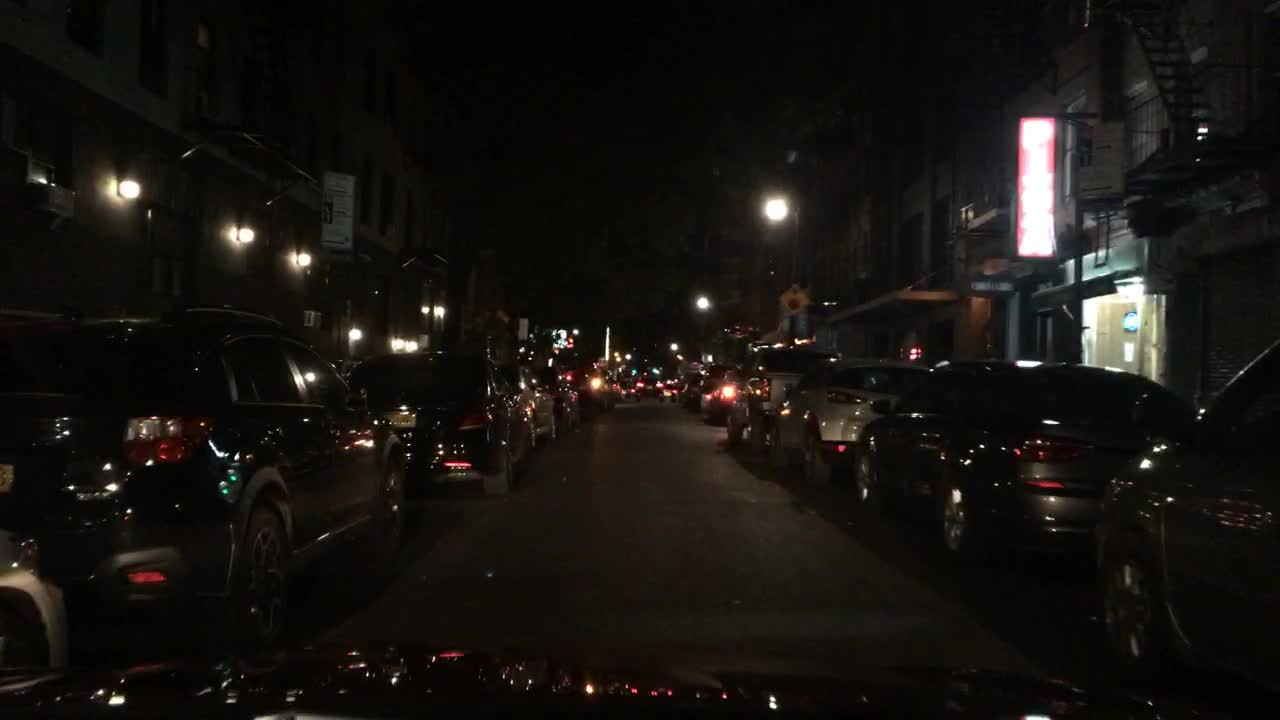car: (2, 304, 412, 643), (847, 357, 1203, 564), (1086, 330, 1279, 682), (358, 348, 536, 493), (767, 358, 937, 495), (721, 350, 828, 460), (0, 527, 71, 668), (503, 361, 558, 443), (699, 374, 749, 425), (544, 375, 581, 429), (683, 368, 722, 414), (572, 373, 612, 417), (633, 372, 661, 404), (672, 375, 697, 405), (618, 377, 640, 400), (665, 378, 682, 406), (611, 382, 629, 403)
traffic sign: (1071, 120, 1124, 208), (321, 170, 358, 252), (779, 283, 811, 315), (518, 317, 531, 344)
